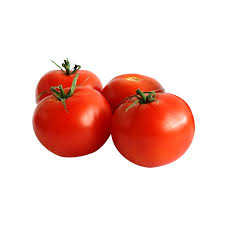tomate: (26, 56, 197, 170)
